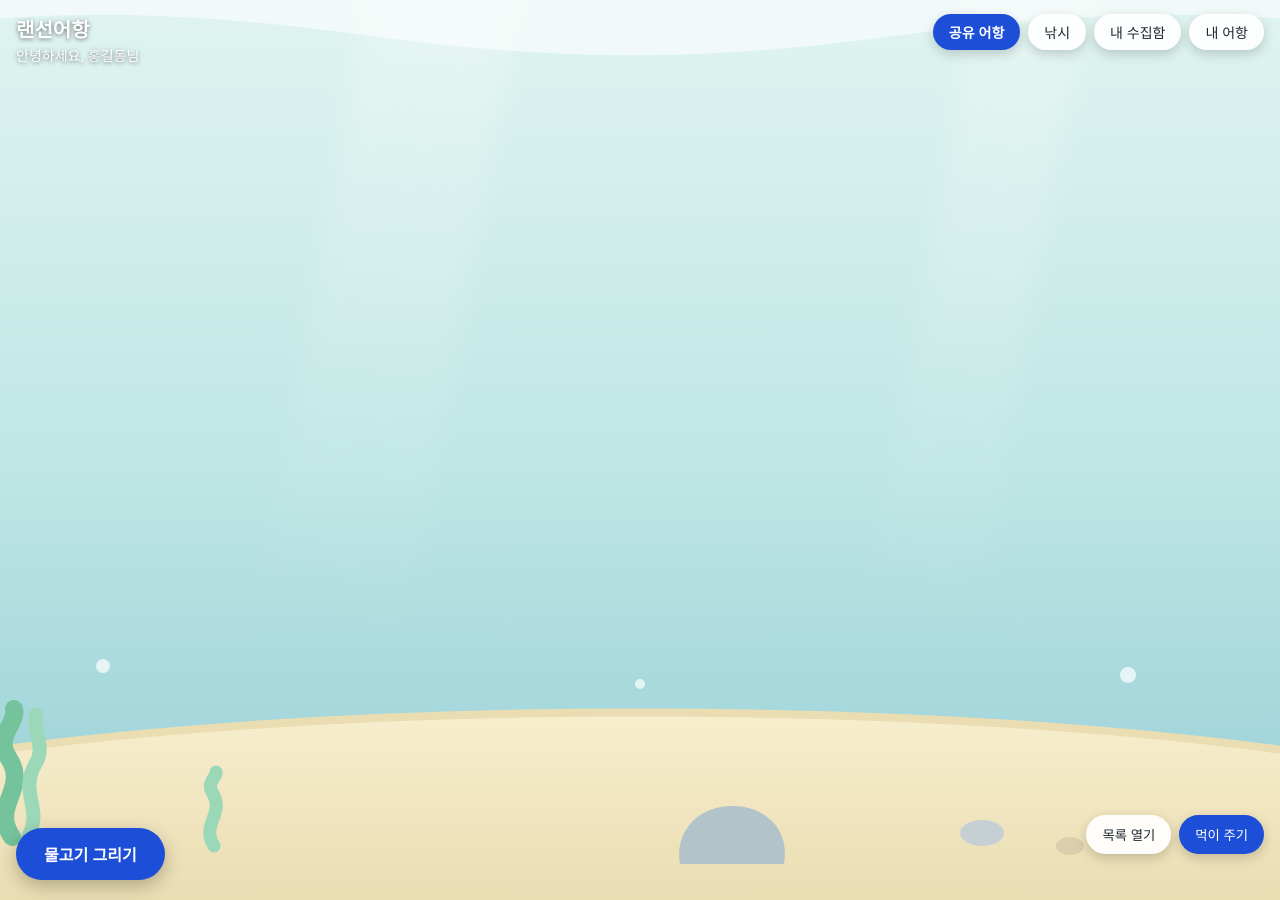
Test: App 뷰 전환 (REQ-COLL-002) › '내 수집함' 버튼을 누르면 수집함 뷰로 전환하고 조회를 시작한다 (REQ-COLL-001)
Click the button "내 수집함": (1138, 32) [1094,14,1181,50]
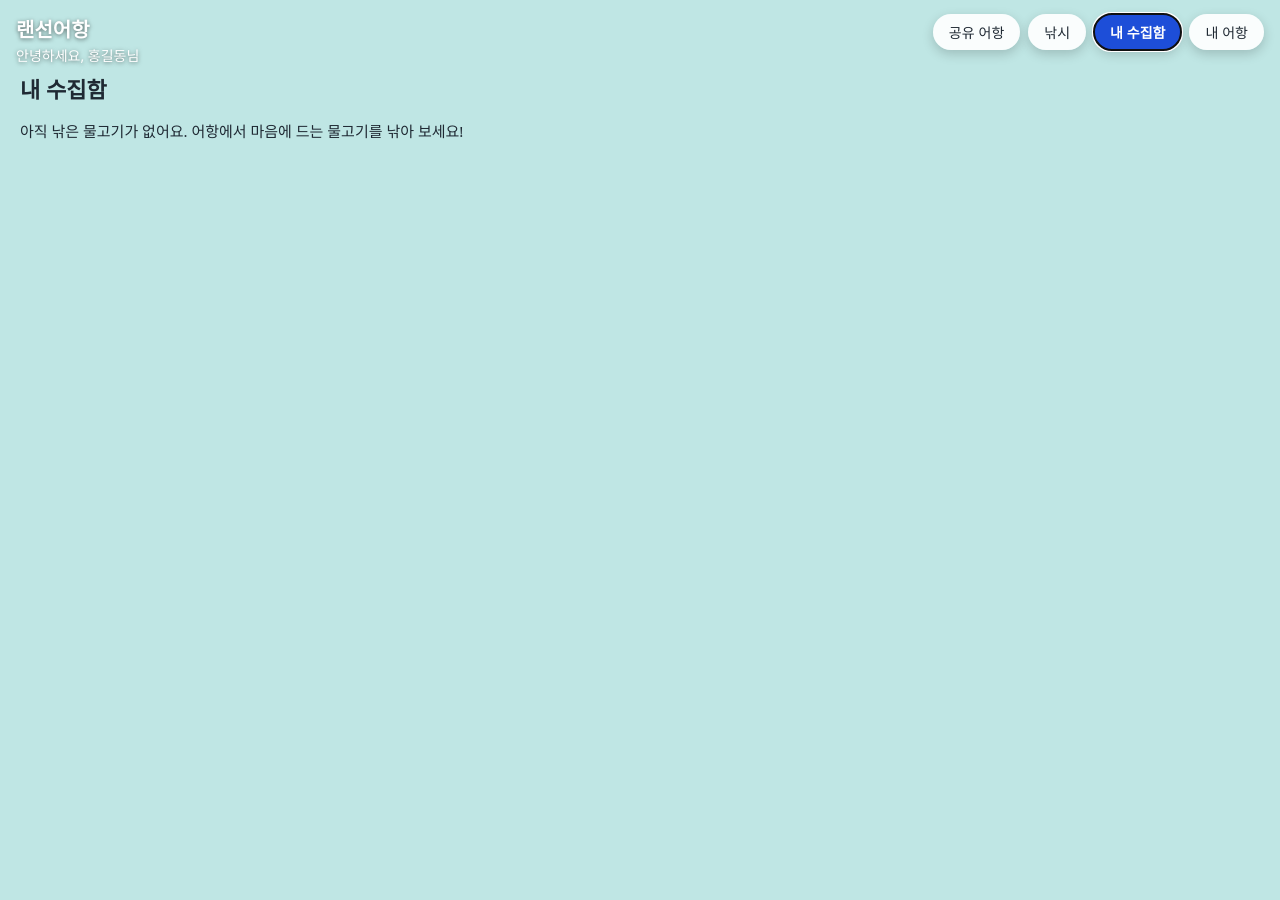
Now the heading "내 수집함" is shown, box [20,74,107,104]
